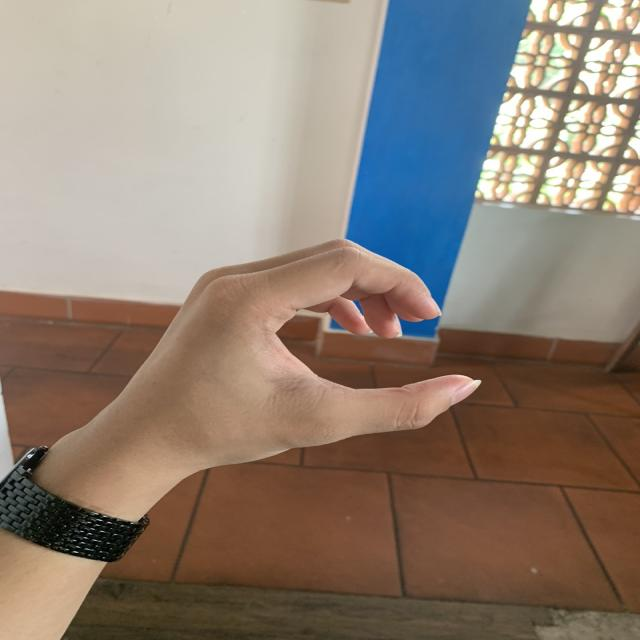no: (147, 198, 487, 490)
